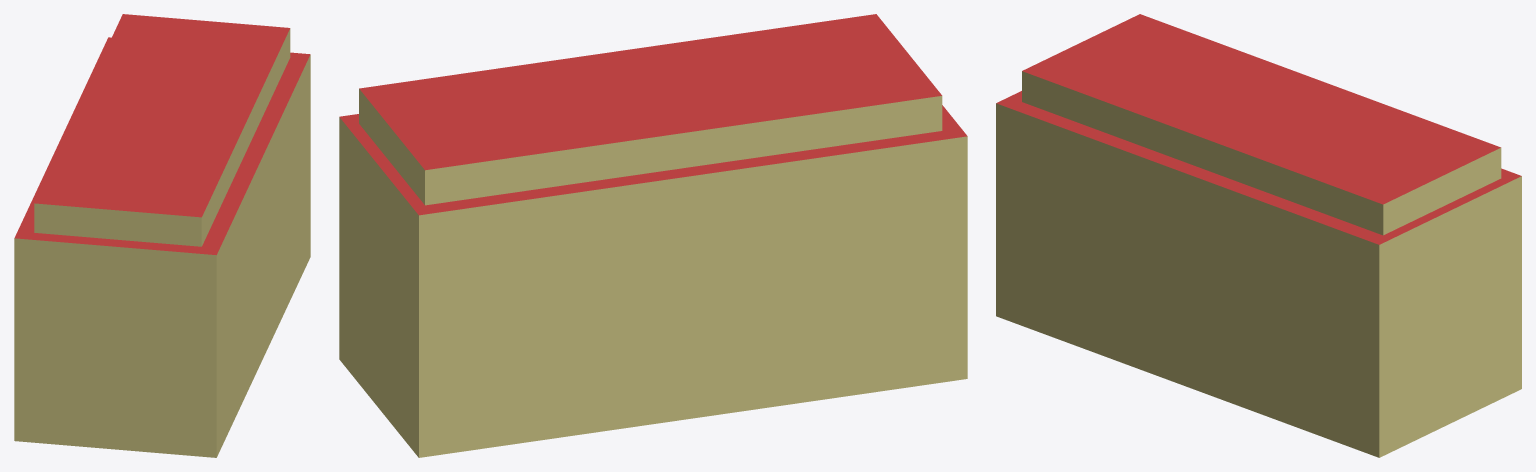
3 renders of one model, left to right at view 1: azimuth 30°, elevation 25°; view 2: azimuth 150°, elevation 25°; view 3: azimuth 270°, elevation 25°, orthographic. The views are drawn at different scales.
Visible parts, largest first — view 1: group_6, group_4, group_5, group_3; view 2: group_6, group_4, group_5, group_3; view 3: group_6, group_4, group_5, group_3.
Part boxes in pixels (x1=…): group_6: x1=14, y1=55, x2=310, y2=457; group_4: x1=34, y1=14, x2=289, y2=217; group_5: x1=34, y1=28, x2=290, y2=246; group_3: x1=14, y1=37, x2=310, y2=255; group_6: x1=339, y1=117, x2=967, y2=457; group_4: x1=359, y1=14, x2=941, y2=170; group_5: x1=359, y1=89, x2=942, y2=205; group_3: x1=339, y1=105, x2=967, y2=215; group_6: x1=996, y1=103, x2=1521, y2=457; group_4: x1=1022, y1=14, x2=1500, y2=204; group_5: x1=1022, y1=71, x2=1501, y2=235; group_3: x1=996, y1=91, x2=1521, y2=244.
Size of the model in its own units: 28.76 by 30.35 by 15.53.
